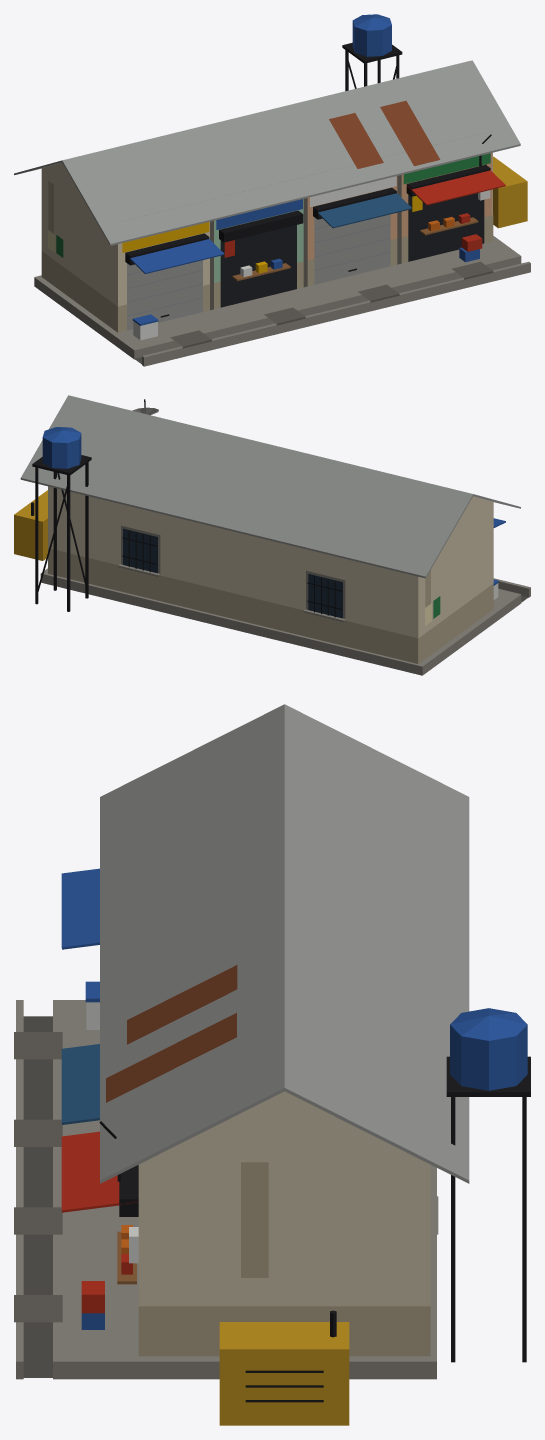
File: bld_shop-row.b2d2a1f0eb1b.glb
3 views of the same model, one above another, from view 1: azimuth 30°, elevation 25°; view 2: azimuth 150°, elevation 25°; view 3: azimuth 270°, elevation 25° (orthographic). The views are drawn at different scales.
Parts seen in each view (by area): view 1: body; view 2: body; view 3: body.
Boxes of the visible parts, x1,y1,x2,y2 form: body: [14, 14, 530, 366]; body: [14, 395, 530, 675]; body: [14, 704, 530, 1425].
Size of the model in its own units: 15.31 by 5.63 by 7.98.
